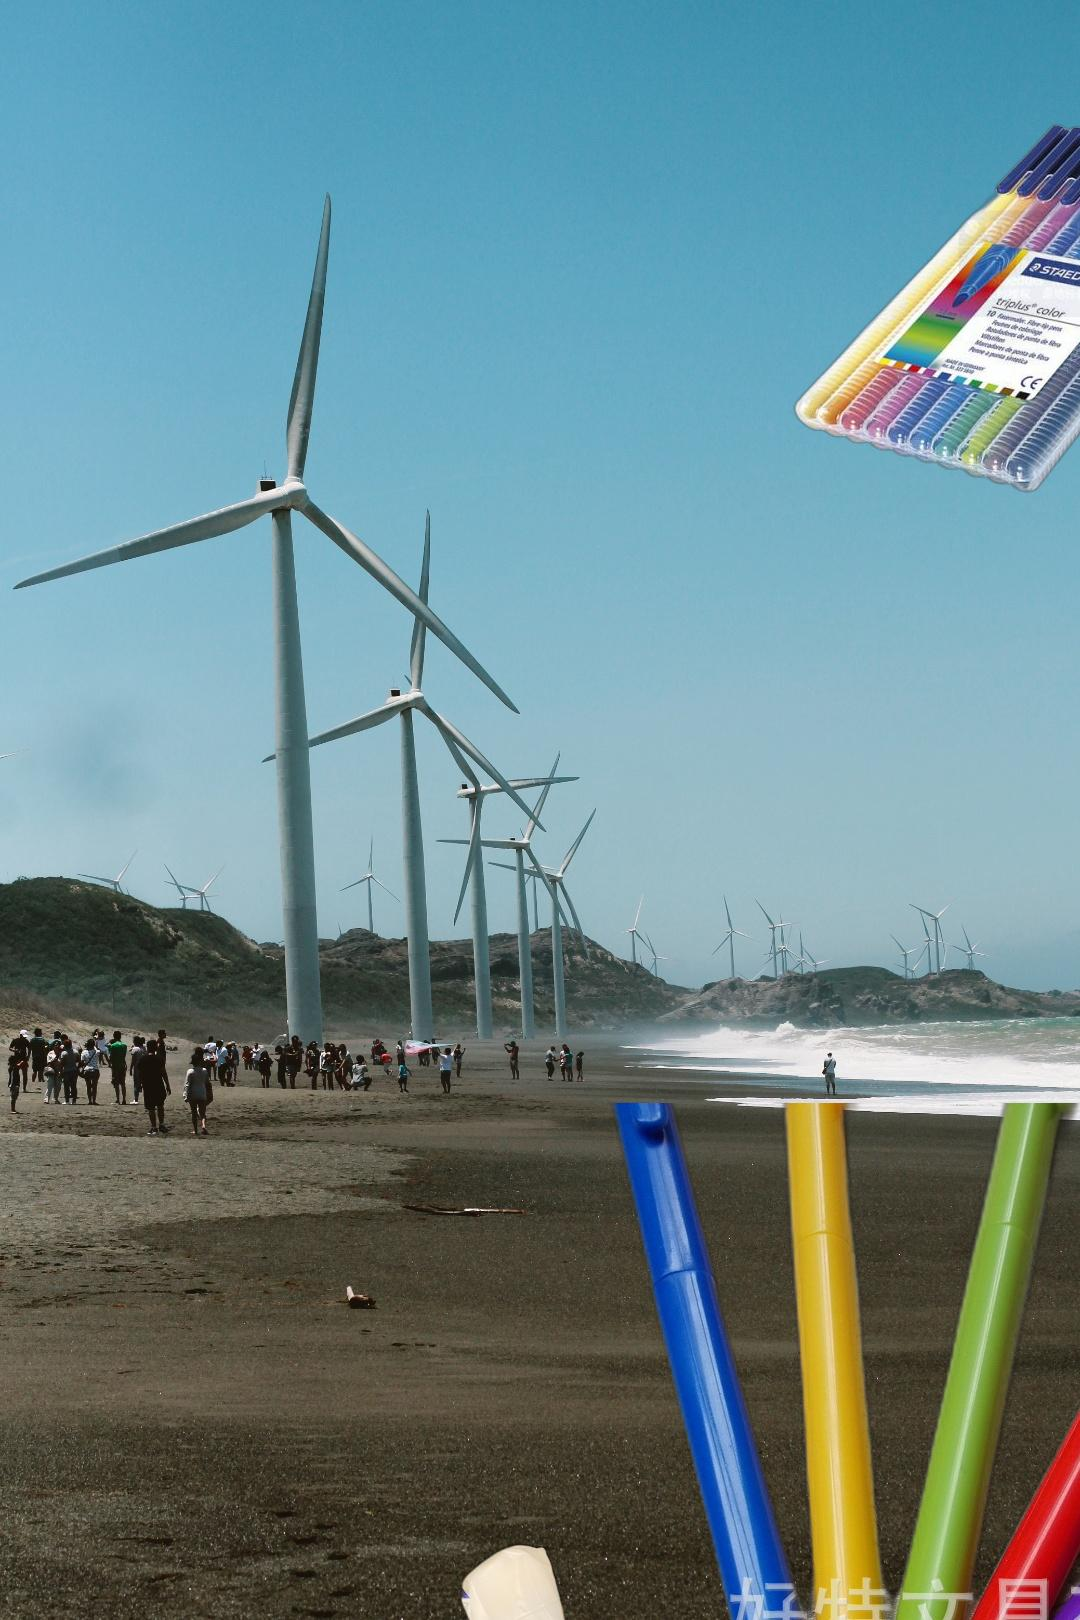penholder: (603, 1103, 1080, 1620), (790, 121, 1080, 495)
plastic-bottles: (80, 1244, 573, 1620)
